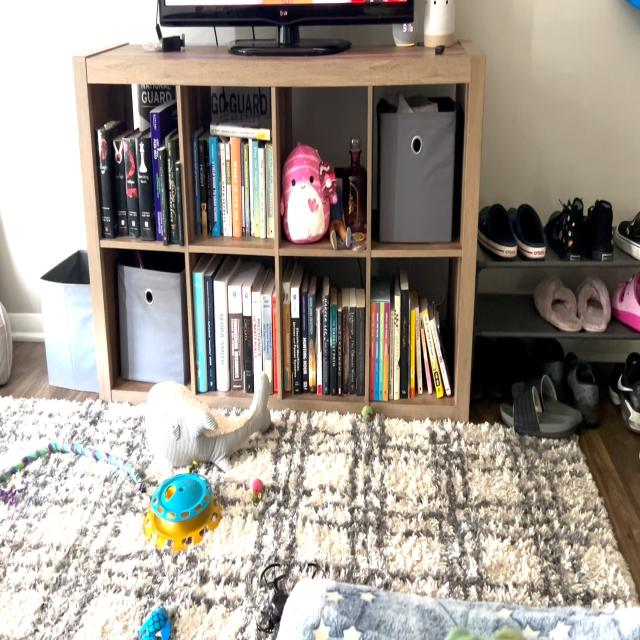drone: (252, 552, 330, 640)
